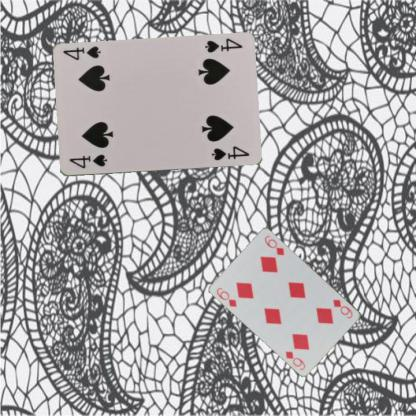4s: (66, 152, 108, 170), (202, 36, 243, 54)
6d: (214, 285, 238, 308), (331, 297, 354, 320)
